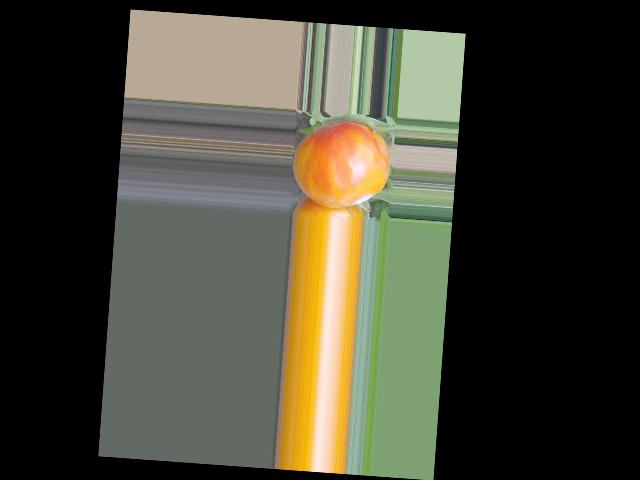tomato: (290, 118, 392, 211)
